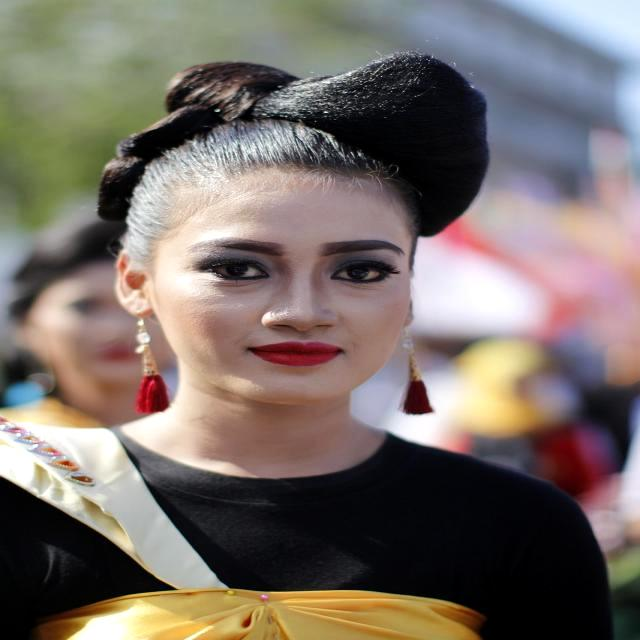no_head_wear: (95, 49, 492, 274)
person: (2, 166, 611, 640)
